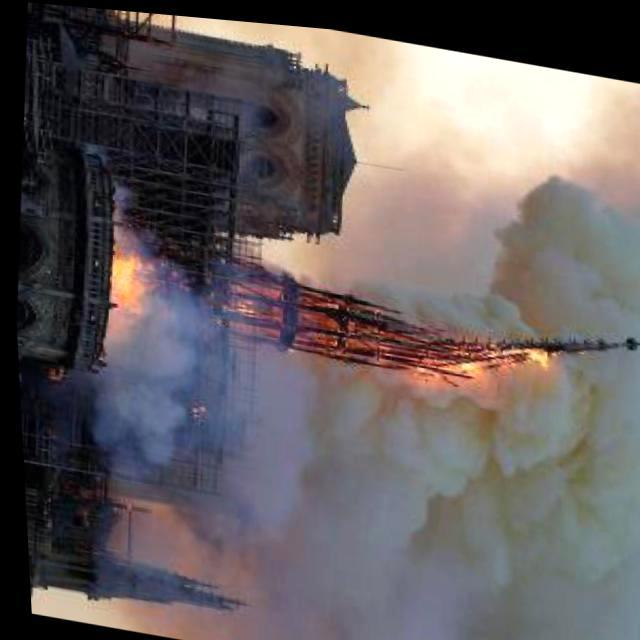fire: (216, 281, 554, 404), (75, 139, 177, 261), (90, 242, 154, 326)
